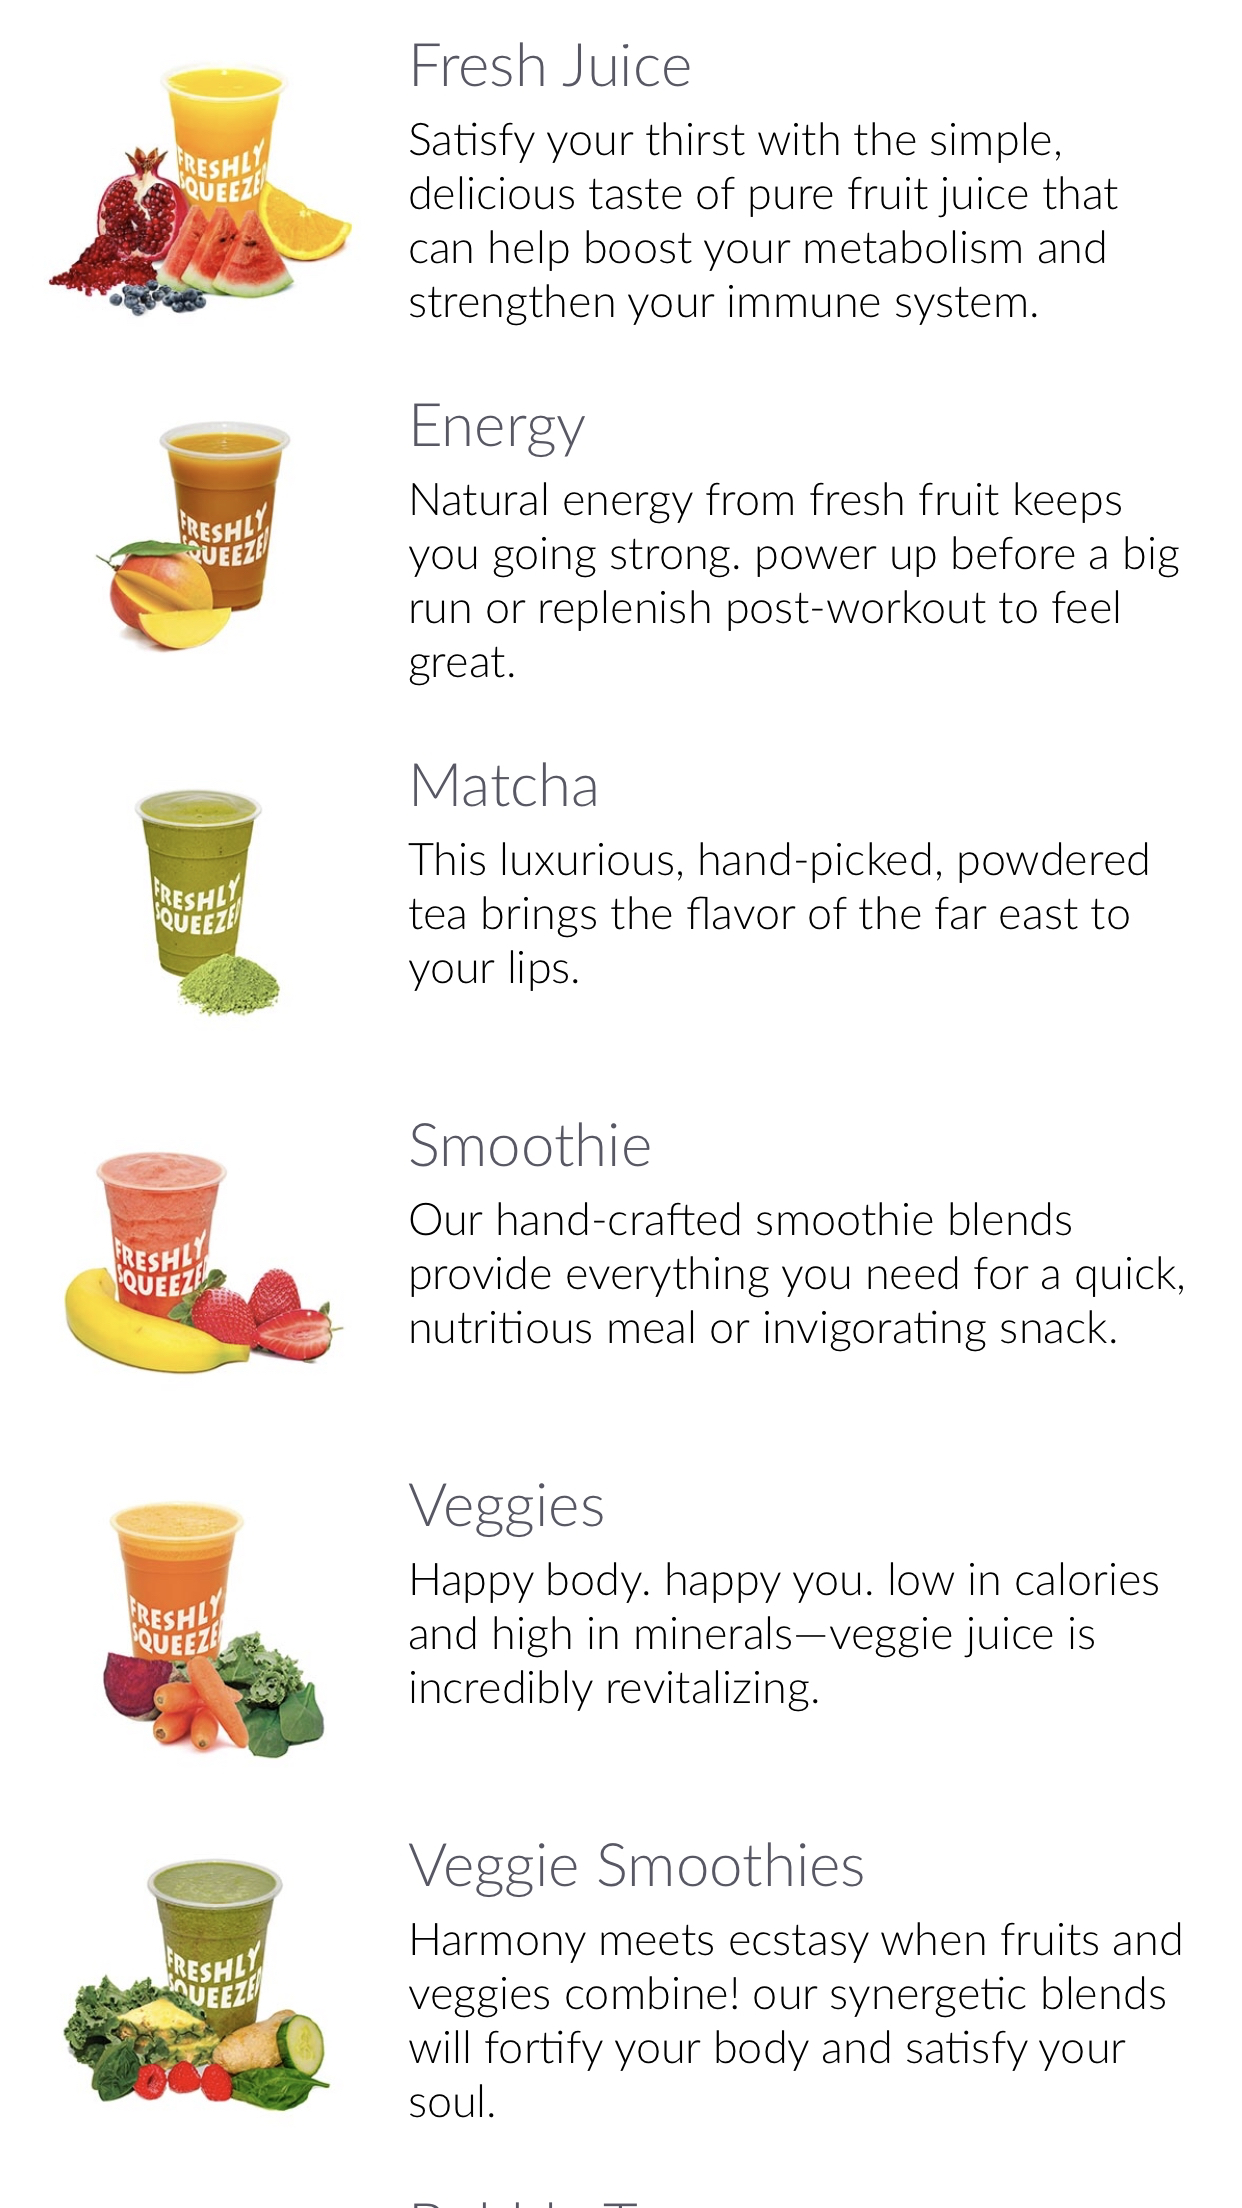Image: (49, 59, 353, 318), (64, 1856, 334, 2112), (65, 1149, 346, 1375), (102, 1500, 328, 1761), (96, 420, 293, 654), (133, 786, 282, 1019)
Text: (408, 482, 1180, 687), (409, 1921, 1181, 2119), (409, 121, 1119, 328), (409, 1201, 1184, 1353), (409, 1560, 1159, 1712), (409, 842, 1149, 993), (409, 1841, 864, 1899), (412, 42, 692, 89), (409, 1121, 651, 1168), (409, 1482, 605, 1538), (412, 403, 585, 459), (414, 761, 597, 808)
